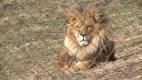lion: (61, 10, 118, 66)
